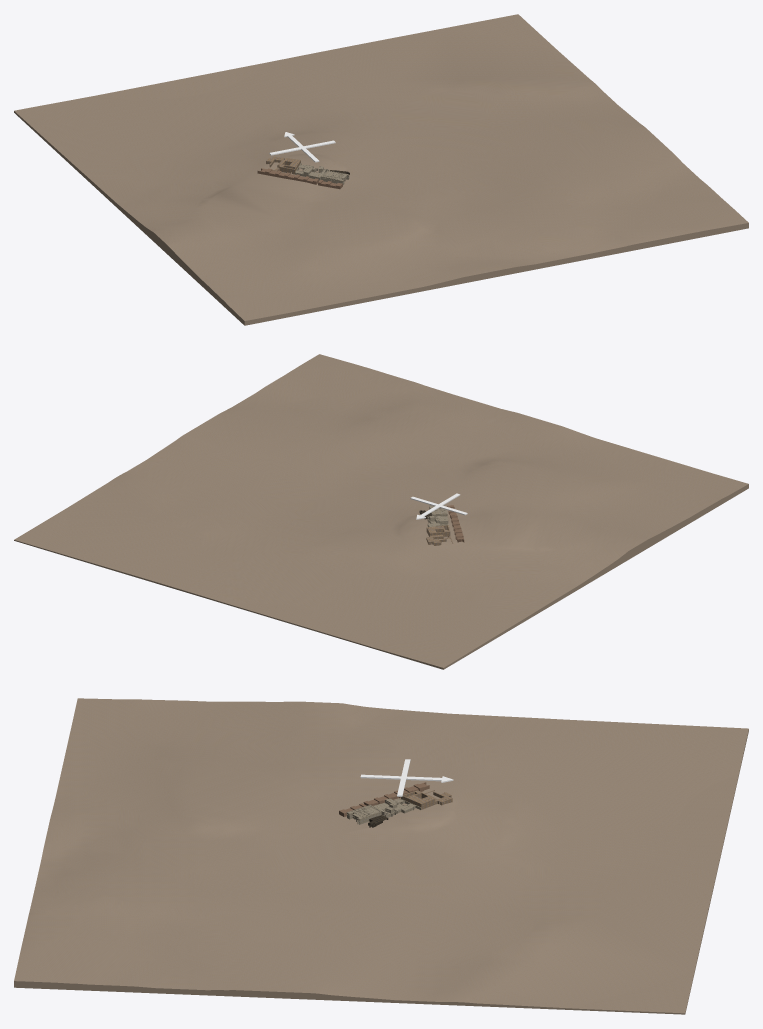
File: umm-al-aqarib-reconstructed-area-copy.glb
3 views of the same model, one above another, from view 1: azimuth 30°, elevation 25°; view 2: azimuth 150°, elevation 25°; view 3: azimuth 270°, elevation 25° (orthographic). The views are drawn at different scales.
Size of the model in its own units: 545 by 33.09 by 545.
7 materials, 5 textured.
